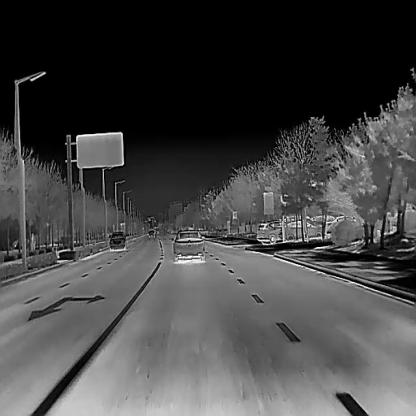car: (173, 229, 205, 260), (256, 219, 292, 243), (284, 219, 322, 240), (108, 230, 126, 249), (147, 229, 154, 237)
